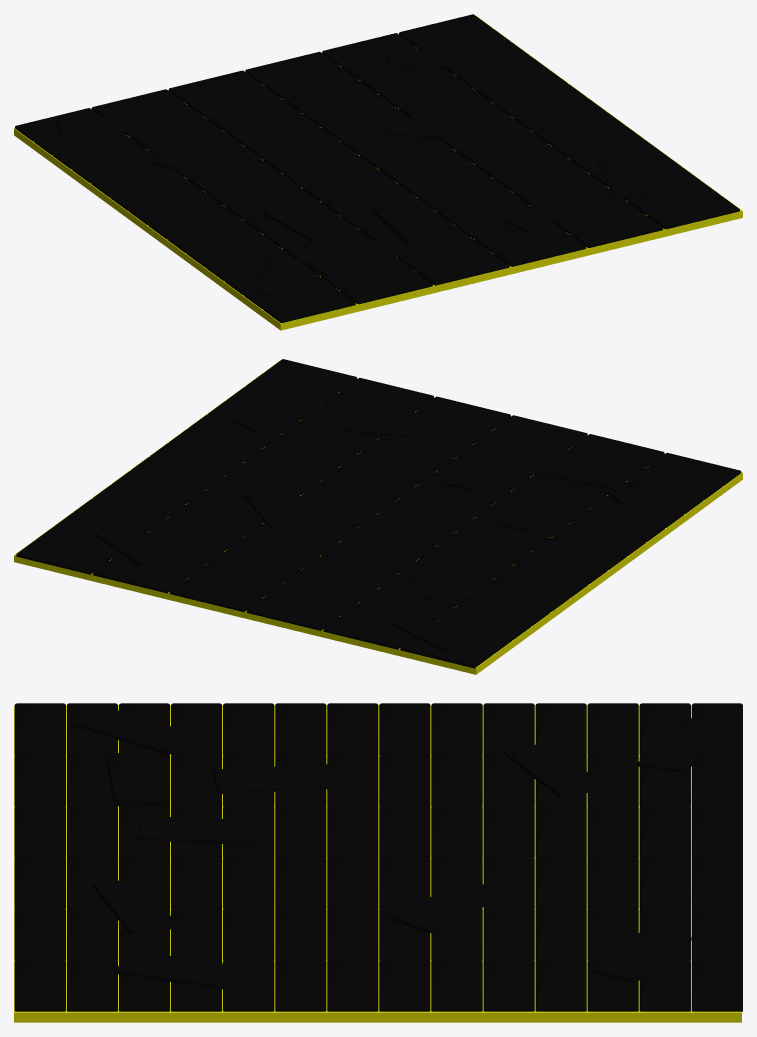
The model's file is P_Floor_6.fbx.
The picture shows the model from 3 angles, top to bottom: view 1: azimuth 30°, elevation 25°; view 2: azimuth 150°, elevation 25°; view 3: azimuth 270°, elevation 25°; orthographic projection. The views are drawn at different scales.
Visible parts, largest first — view 1: P_Floor_6; view 2: P_Floor_6; view 3: P_Floor_6.
Part boxes in pixels (x1,y1,x2,y2): P_Floor_6: (14, 14, 742, 330); P_Floor_6: (14, 359, 742, 674); P_Floor_6: (14, 703, 742, 1022).
Size of the model in its own units: 700 by 16.78 by 701.
